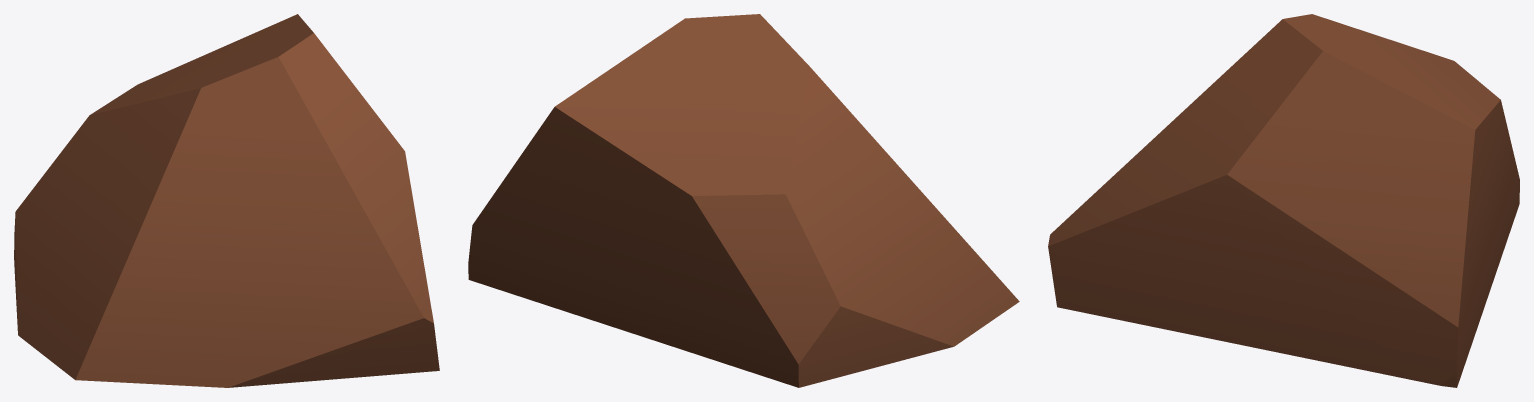
File: rock06.fbx
The picture shows the model from 3 angles, left to right: view 1: azimuth 30°, elevation 25°; view 2: azimuth 150°, elevation 25°; view 3: azimuth 270°, elevation 25°; orthographic projection. The views are drawn at different scales.
Visible parts, largest first — view 1: Rock06; view 2: Rock06; view 3: Rock06.
Part boxes in pixels (<box>): Rock06: <box>14,14,439,387</box>; Rock06: <box>468,14,1019,387</box>; Rock06: <box>1048,14,1519,387</box>.
Bounding box in the file's own units: 224 × 124 × 201.
